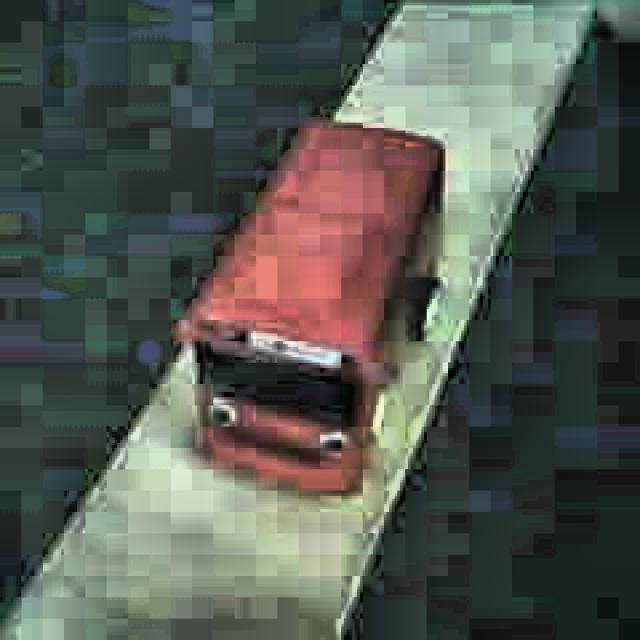bus: (176, 119, 448, 500)
